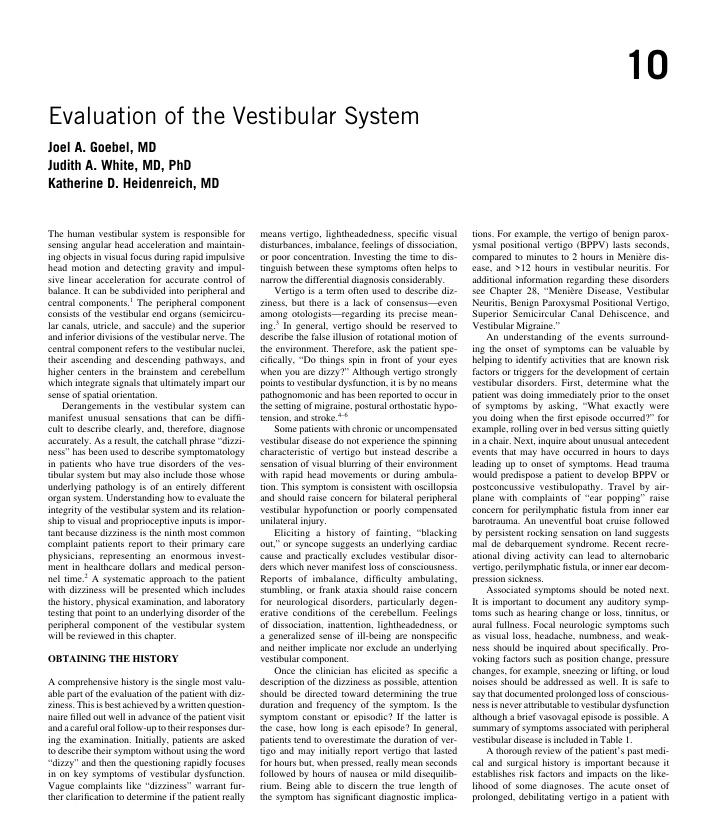chapter-heading: (48, 103, 420, 130)
section-heading: (47, 654, 179, 663)
text: (257, 228, 459, 805), (471, 229, 670, 804), (45, 228, 246, 642), (45, 676, 246, 803)
